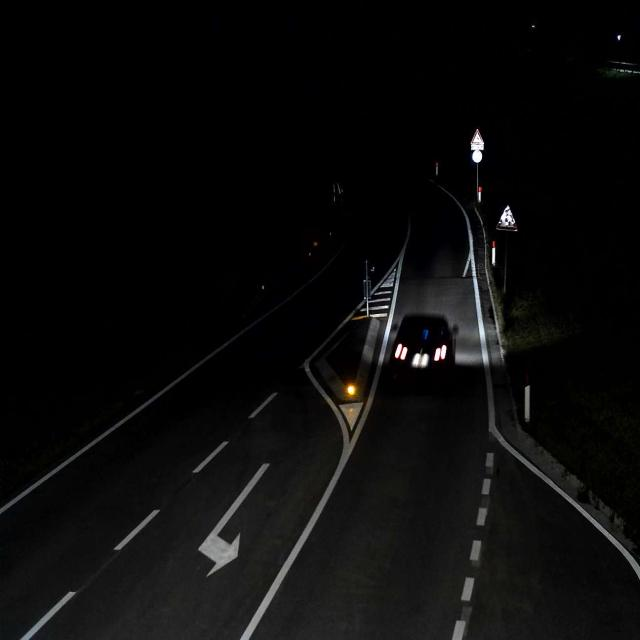car: (388, 312, 458, 387)
